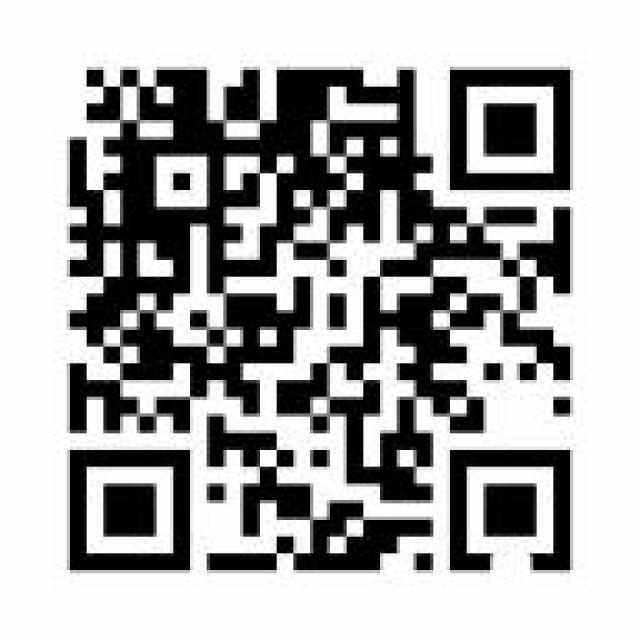qr_code: (69, 68, 571, 570)
